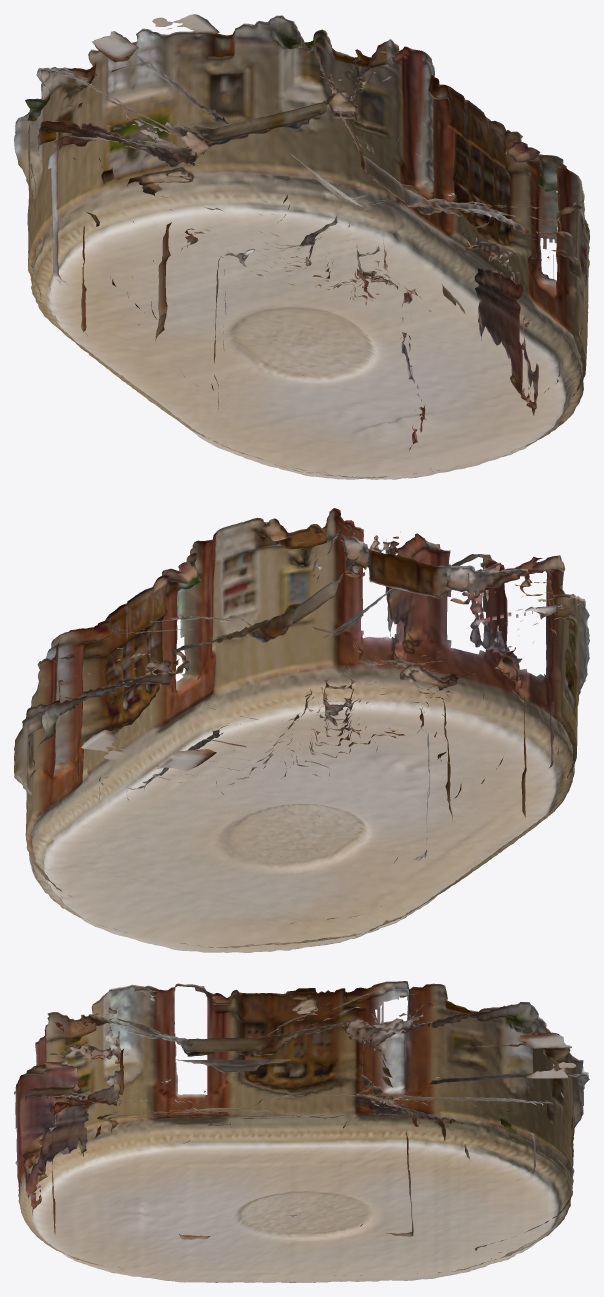
File: Oval Office Elegant Historic Interior_collider.glb
3 renders of one model, top to bottom at view 1: azimuth 30°, elevation 25°; view 2: azimuth 150°, elevation 25°; view 3: azimuth 270°, elevation 25°, orthographic. The views are drawn at different scales.
Parts seen in each view (by area): view 1: world; view 2: world; view 3: world.
Boxes of the visible parts, left/top/right/bottom form: world: left=14, top=14, right=589, bottom=479; world: left=14, top=508, right=589, bottom=952; world: left=14, top=981, right=589, bottom=1282.
Bounding box in the file's own units: 7.86 × 4.08 × 12.62.
